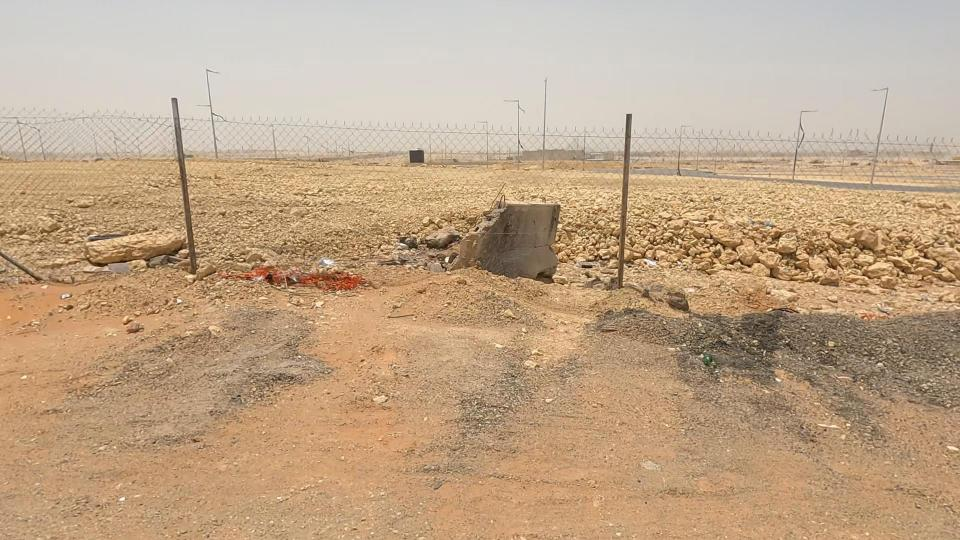GARBAGE: (139, 198, 460, 342)
